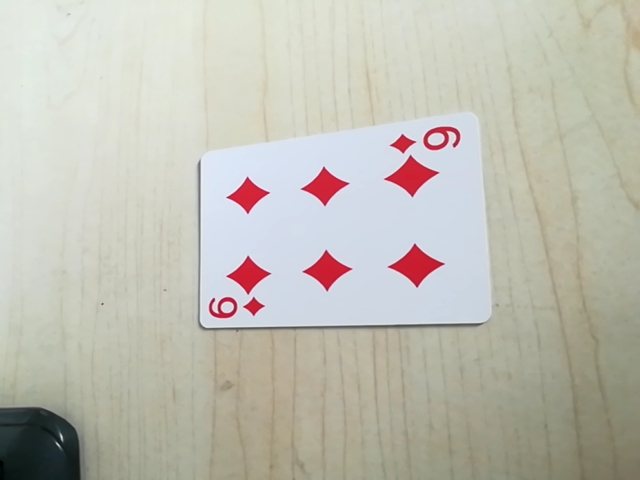fk 6: (387, 121, 465, 159), (206, 292, 268, 325)
